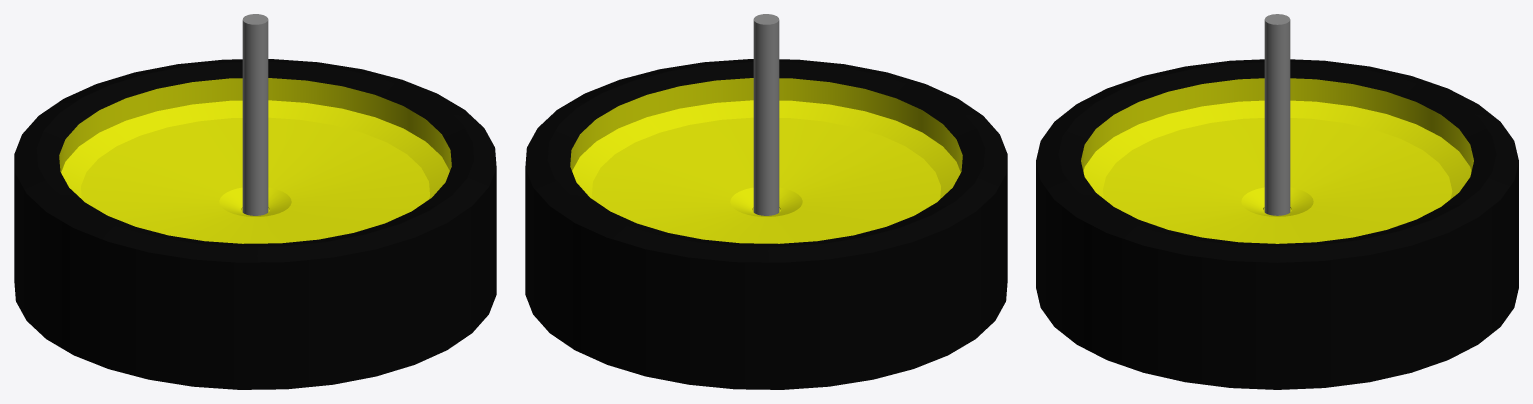
3 views of the same model, side by side, from view 1: azimuth 30°, elevation 25°; view 2: azimuth 150°, elevation 25°; view 3: azimuth 270°, elevation 25° (orthographic).
Parts seen in each view (by area): view 1: Tyre, Cylinder.001; view 2: Tyre, Cylinder.001; view 3: Tyre, Cylinder.001.
Boxes of the visible parts, bbox=[...] form: Tyre: bbox=[14, 59, 496, 389]; Cylinder.001: bbox=[242, 14, 268, 215]; Tyre: bbox=[525, 59, 1007, 389]; Cylinder.001: bbox=[753, 14, 779, 215]; Tyre: bbox=[1036, 59, 1518, 389]; Cylinder.001: bbox=[1264, 14, 1290, 215].
Bounding box in the file's own units: 10 × 6.28 × 10.
